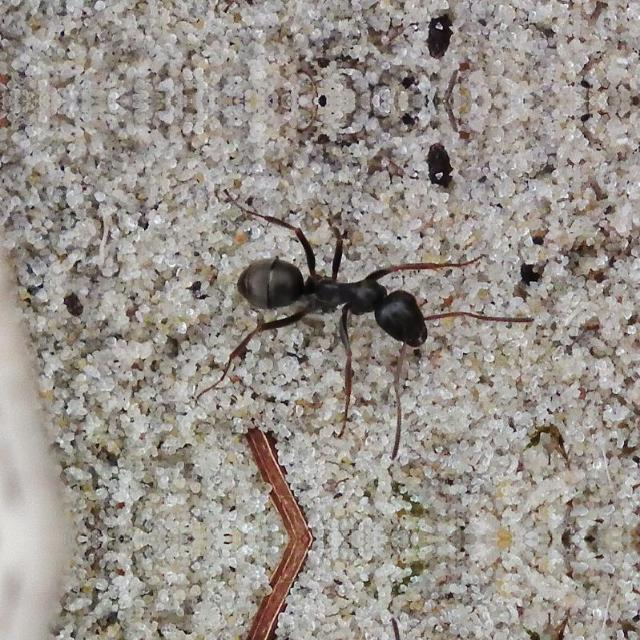Formica: (203, 210, 467, 362)
